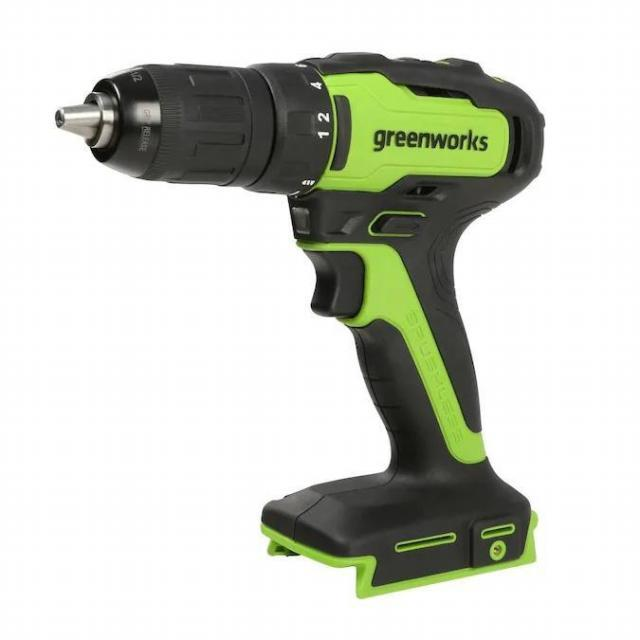drill: (54, 51, 546, 600)
